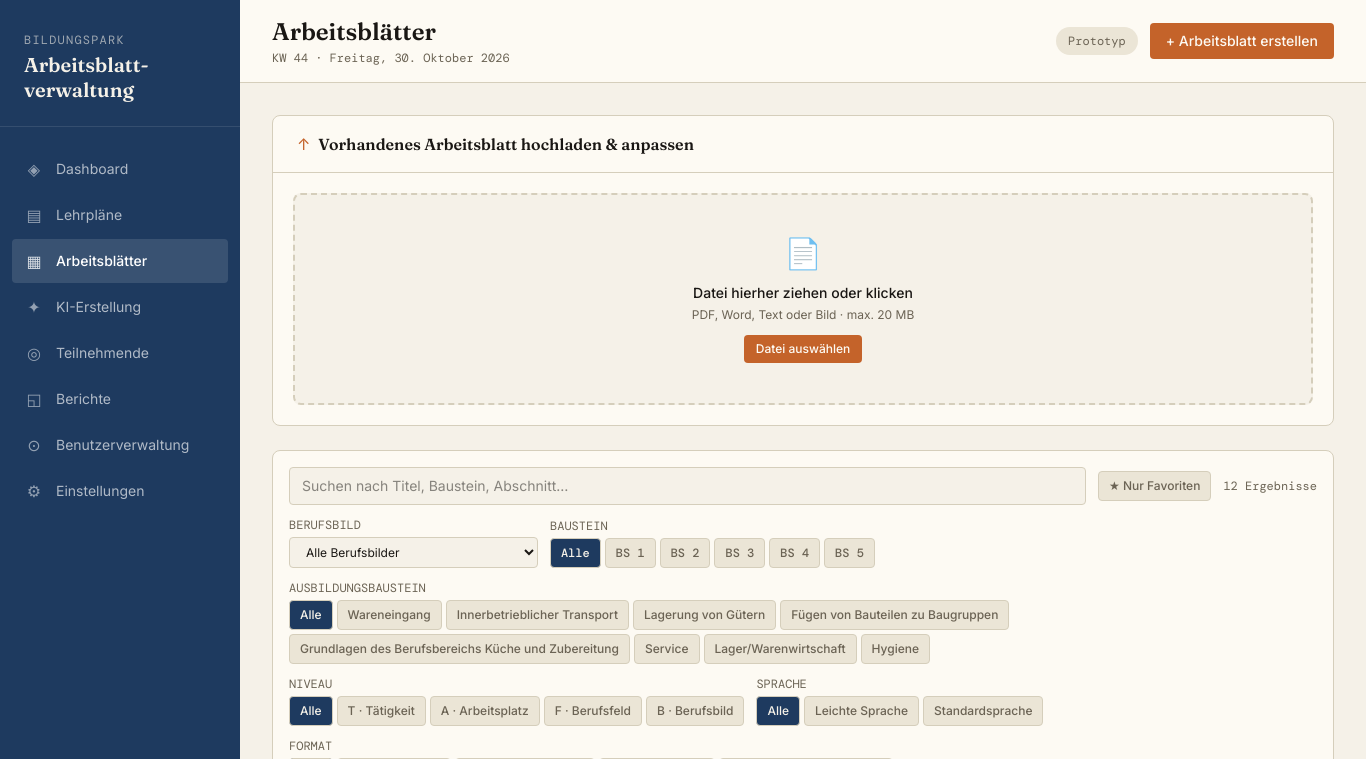
Scenario: Arbeitsblätter › zeigt einen Hinweis, wenn nichts gefunden wird
In the search field named "Arbeitsblätter durchsuchen": (687, 486) [289,467,1086,505], type "xyz"
(page scrolled)
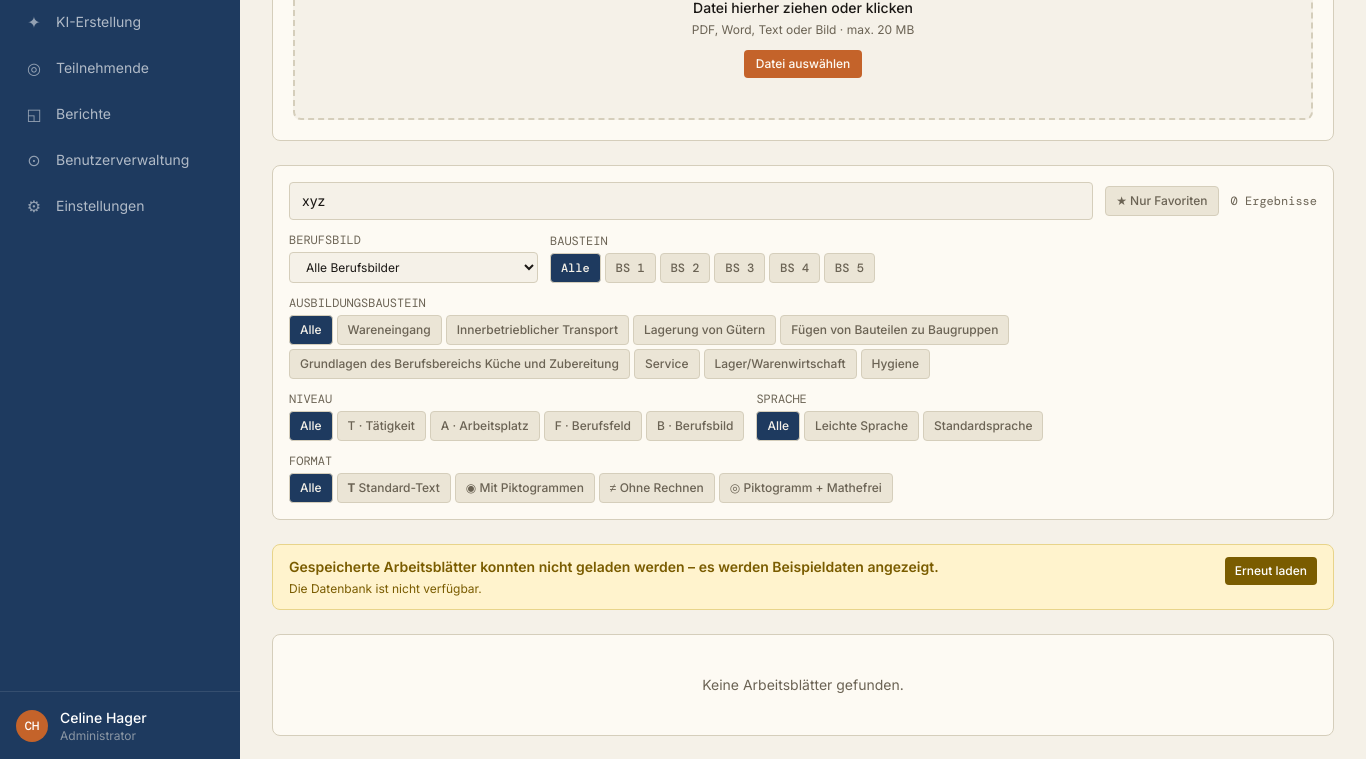
Now the text "Keine Arbeitsblätter gefunden." is shown, box [272,634,1334,736]
